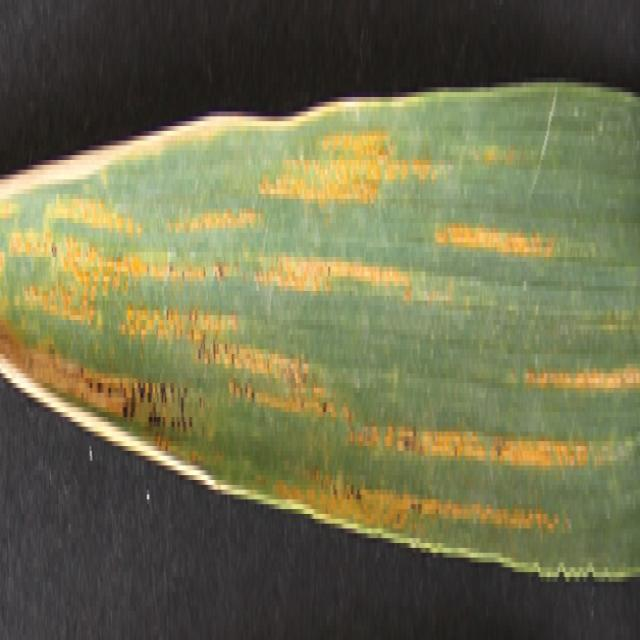leaf rust: (1, 126, 640, 553)
